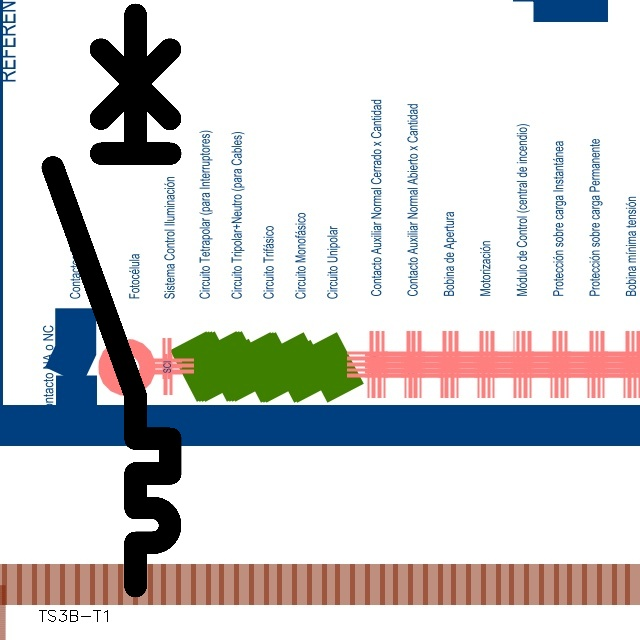interruptor_termomagnetico: (38, 0, 185, 601)
